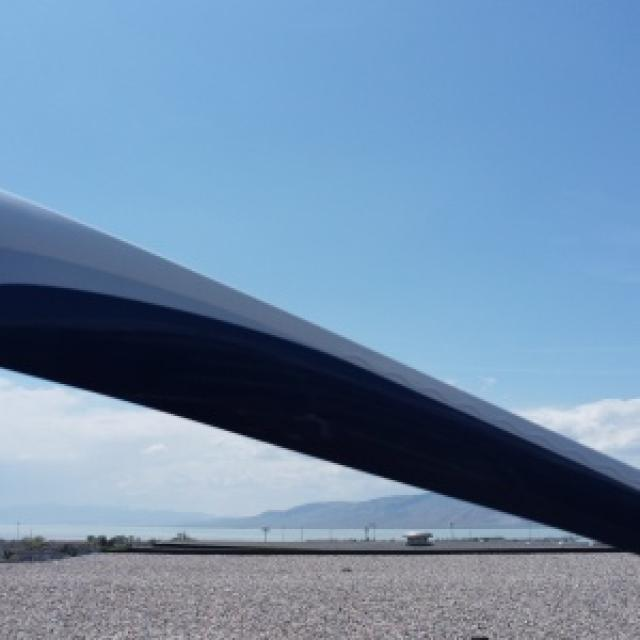healthy: (0, 0, 638, 465)
